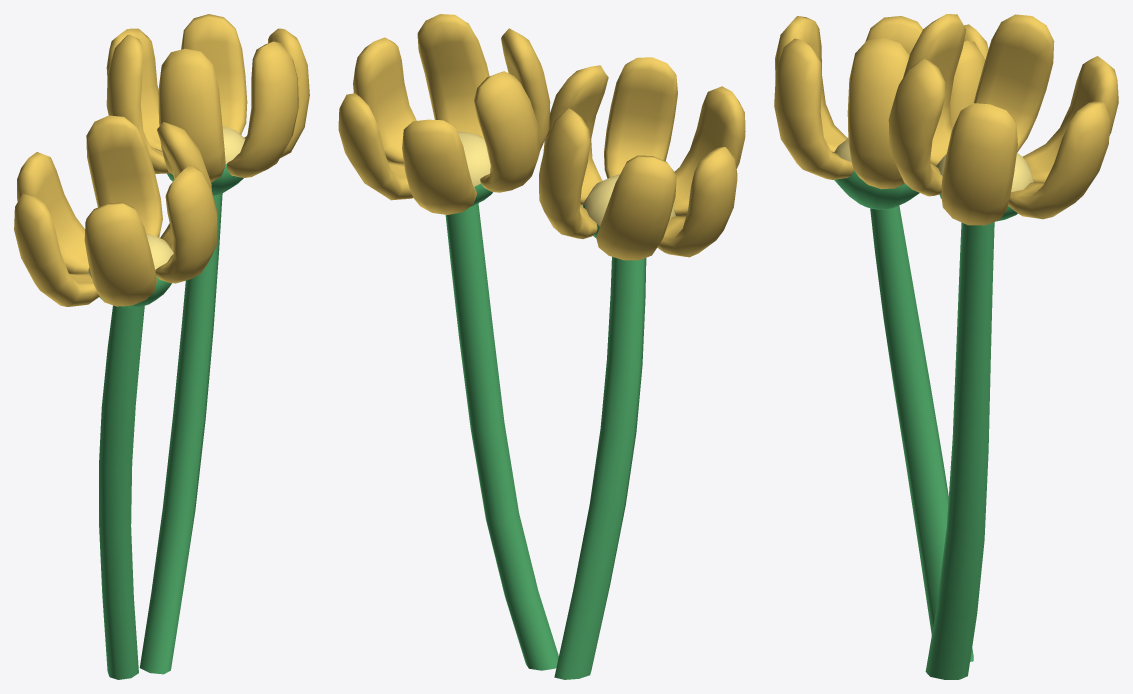
The model's file is Flower_B_02.fbx.
The picture shows the model from 3 angles, left to right: view 1: azimuth 30°, elevation 25°; view 2: azimuth 150°, elevation 25°; view 3: azimuth 270°, elevation 25°; orthographic projection. The views are drawn at different scales.
Visible parts, largest first — view 1: Flower_B_02_LOD0; view 2: Flower_B_02_LOD0; view 3: Flower_B_02_LOD0.
Boxes of the visible parts, x1,y1,x2,y2 form: Flower_B_02_LOD0: (14,14,309,679); Flower_B_02_LOD0: (338,14,745,679); Flower_B_02_LOD0: (774,14,1118,679).
Size of what is drawn, in the model's own units: 313 by 564 by 261.
